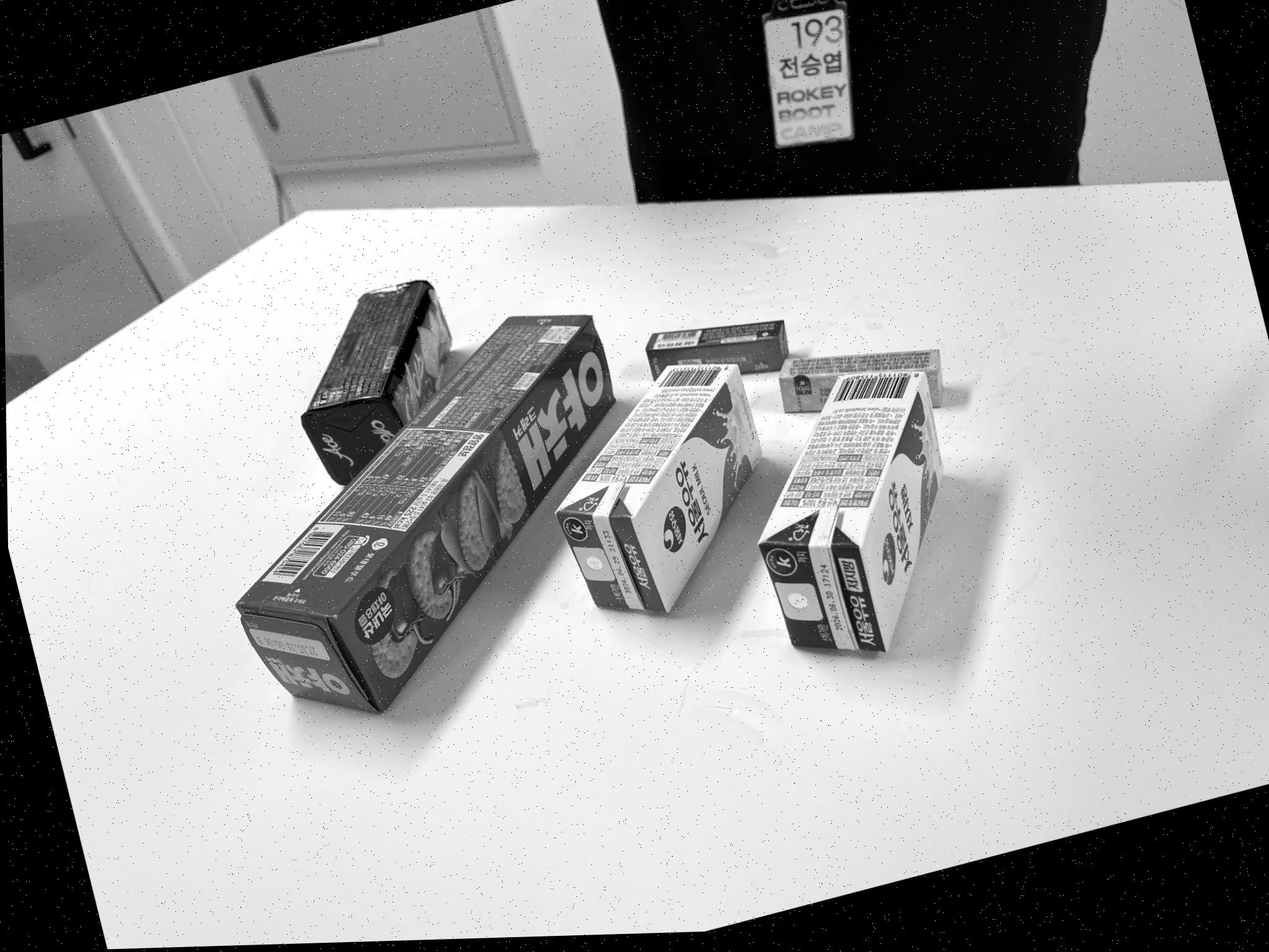cracker_ace: (301, 280, 452, 484)
cracker_vege: (237, 316, 613, 711)
gum_green: (645, 320, 788, 379)
gum_yellow: (779, 349, 943, 412)
milk_blue: (758, 371, 943, 652)
milk_green: (559, 364, 761, 610)
